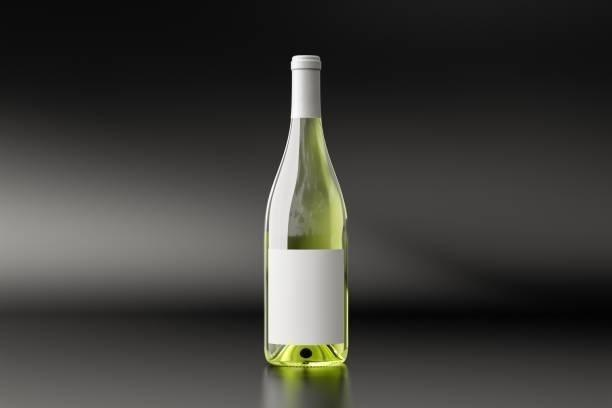bottle-glass: (258, 51, 354, 371)
